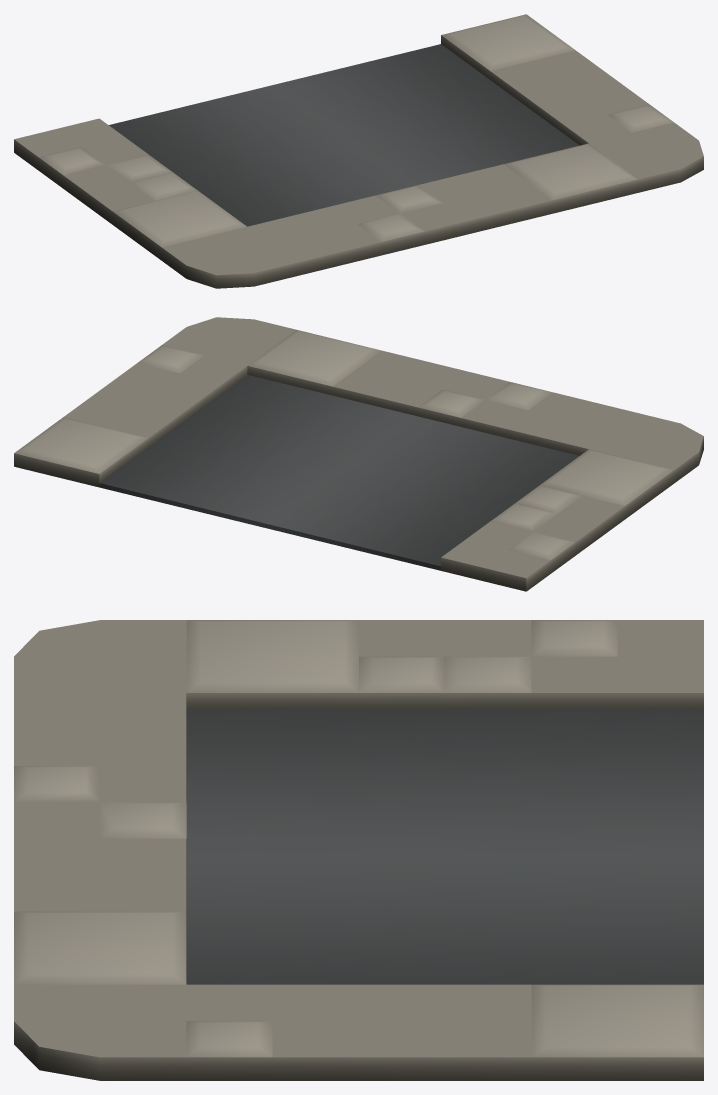
Rendered from Road_1I.fbx.
3 views of the same model, one above another, from view 1: azimuth 30°, elevation 25°; view 2: azimuth 150°, elevation 25°; view 3: azimuth 270°, elevation 25° (orthographic). The views are drawn at different scales.
Visible parts, largest first — view 1: Road_1I; view 2: Road_1I; view 3: Road_1I.
Part boxes in pixels (box(x1,y1,x2,y2)): Road_1I: box(14, 14, 703, 288); Road_1I: box(14, 317, 703, 591); Road_1I: box(14, 620, 703, 1080).
Size of the model in its own units: 12 by 0.3565 by 8.
